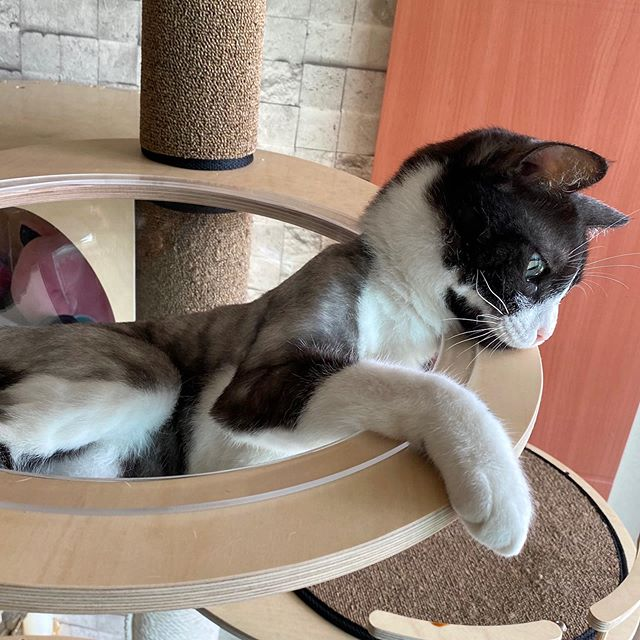cat: (410, 128, 640, 357)
